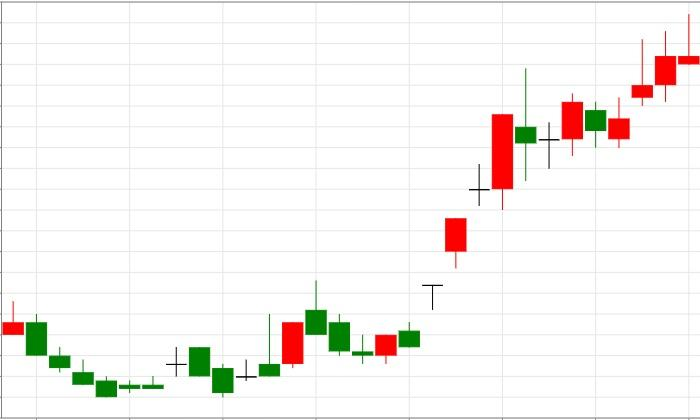bullish_engulfing_rise: (305, 281, 397, 365)
three_white_soldiers_rise: (561, 30, 677, 156)
